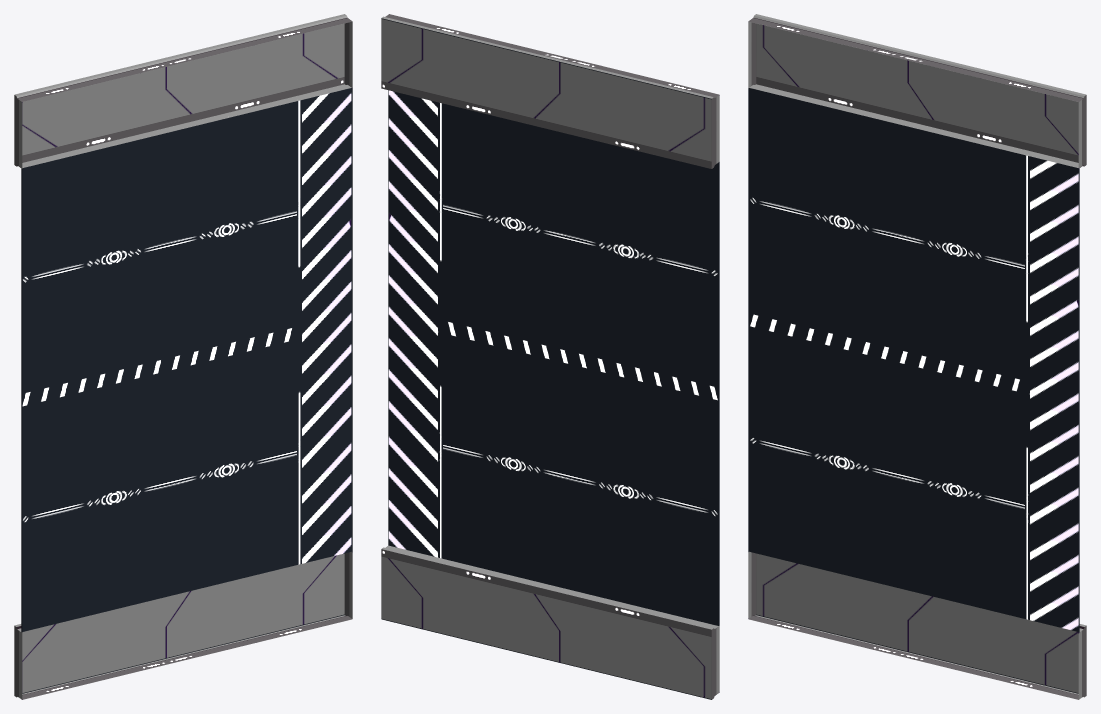
The model's file is SM_L_LineRoad.fbx.
The picture shows the model from 3 angles, left to right: view 1: azimuth 30°, elevation 25°; view 2: azimuth 150°, elevation 25°; view 3: azimuth 330°, elevation 25°; orthographic projection.
Parts seen in each view (by area): view 1: SM_L_LineRoad; view 2: SM_L_LineRoad; view 3: SM_L_LineRoad.
Part boxes in pixels (box(x1,y1,x2,y2)): SM_L_LineRoad: box(14, 14, 352, 699); SM_L_LineRoad: box(381, 14, 719, 699); SM_L_LineRoad: box(748, 14, 1086, 699).
Bounding box in the file's own units: 2833 × 4923 × 119.
